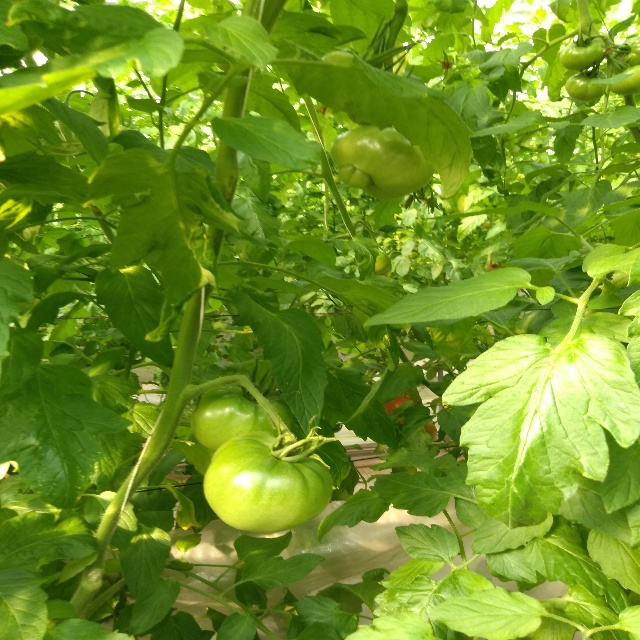b_green: (203, 432, 334, 533), (329, 123, 437, 199), (191, 381, 293, 451), (565, 68, 608, 101), (559, 38, 603, 70), (607, 65, 640, 96)
